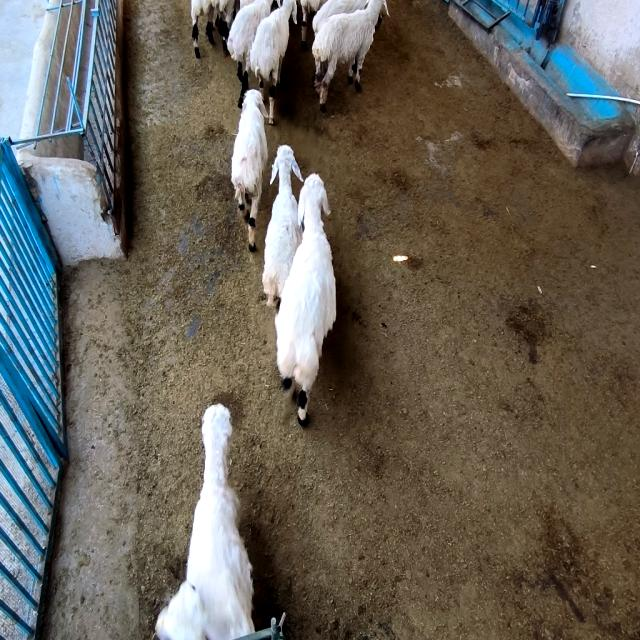sheep: (186, 405, 255, 640), (275, 173, 336, 425), (312, 0, 388, 111), (264, 145, 302, 305), (231, 90, 268, 251), (250, 0, 296, 124), (228, 0, 272, 108), (312, 0, 368, 34), (191, 0, 217, 58)
